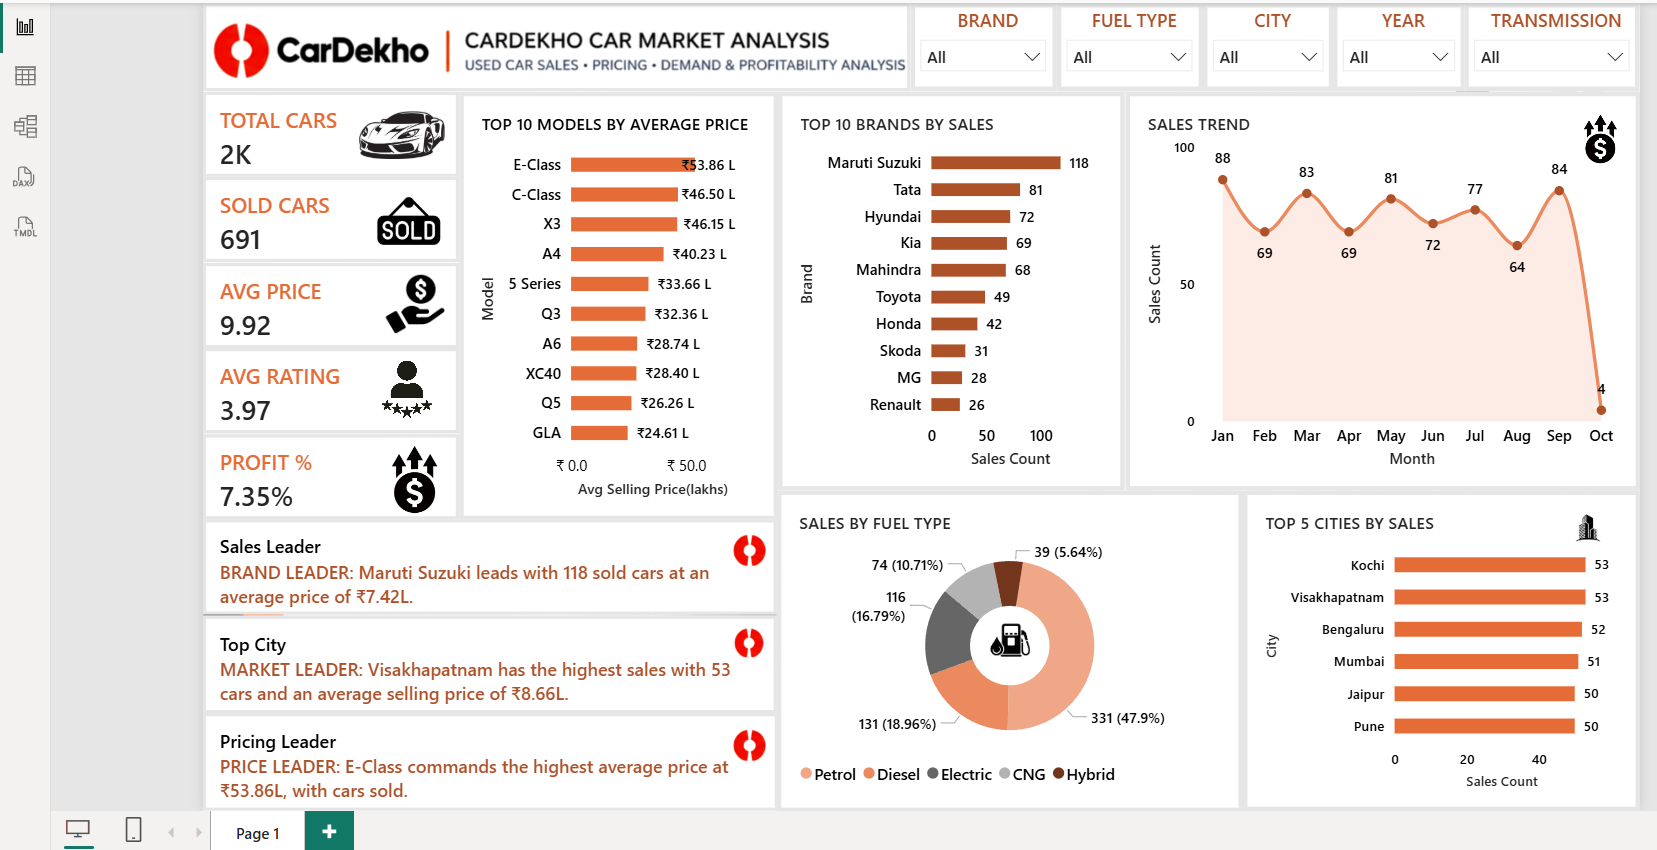

The page's visual inventory and layout, read from the dashboard file:
{"tool":"powerbi","page":{"name":"Page 1","canvas":[1280,720],"ordinal":0},"visuals":[{"type":"lineChart","title":"SALES TREND","fields":{"Category":["DateTable.Month"],"Y":["CarData.Sales Count"]},"box":[821.2,78.8,458.8,355],"z":0},{"type":"clusteredBarChart","title":"TOP 10 BRANDS BY SALES","fields":{"Y":["CarData.Sales Count"],"Category":["CarData.Brand"]},"box":[512.5,78.8,308.8,355],"z":1000},{"type":"donutChart","title":"SALES BY FUEL TYPE","fields":{"Y":["CarData.Sales Count"],"Category":["CarData.Fuel_Type"]},"box":[511.2,433.8,415,286.2],"z":2000},{"type":"clusteredBarChart","title":"TOP 5 CITIES BY SALES","fields":{"Category":["CarData.City"],"Y":["CarData.Sales Count"]},"box":[926.5,434.3,353.5,285.9],"z":3000},{"type":"clusteredBarChart","title":"TOP 10 MODELS BY AVERAGE PRICE","fields":{"Category":["CarData.Model"],"Y":["CarData.Average Selling Price"]},"box":[228.8,78.8,283.8,381.2],"z":4000},{"type":"cardVisual","fields":{"Data":["CarData.Total Cars"]},"box":[0,78.8,228.8,76.2],"z":5000},{"type":"cardVisual","fields":{"Data":["CarData.Sold Cars"]},"box":[0,155,228.8,76.2],"z":6000},{"type":"cardVisual","fields":{"Data":["CarData.Average Price"]},"box":[0,231.2,228.8,76.2],"z":7000},{"type":"cardVisual","fields":{"Data":["CarData.Average Rating"]},"box":[0,307.5,228.8,76.2],"z":8000},{"type":"cardVisual","fields":{"Data":["CarData.Profit Margin %"]},"box":[0,383.8,228.8,76.2],"z":9000},{"type":"slicer","title":"BRAND","fields":{"Values":["CarData.Brand"]},"box":[630,0,130,78.8],"z":10000},{"type":"slicer","title":"FUEL TYPE","fields":{"Values":["CarData.Fuel_Type"]},"box":[760,0,130,78.8],"z":11000},{"type":"slicer","title":"CITY","fields":{"Values":["CarData.City"]},"box":[890,0,116.2,78.8],"z":12000},{"type":"slicer","title":"YEAR","fields":{"Values":["DateTable.Year"]},"box":[1006.2,0,117.5,78.8],"z":13000},{"type":"slicer","title":"TRANSMISSION","fields":{"Values":["CarData.Transmission"]},"box":[1123.8,0,156.2,78.8],"z":14000},{"type":"shape","box":[0,0,630,78.8],"z":15000},{"type":"cardVisual","fields":{"Data":["CarData.Insight 1 - Sales Leader"]},"box":[0,460,511.2,85],"z":16000},{"type":"cardVisual","fields":{"Data":["CarData.Insight 2 - Top City"]},"box":[0,545,511.2,87.5],"z":17000},{"type":"cardVisual","fields":{"Data":["CarData.Insight 3 - Pricing Leader"]},"box":[0,632.5,512.5,87.5],"z":18000},{"type":"image","box":[0,1.2,630,77.5],"z":19000},{"type":"image","box":[138.8,96.2,76.2,43.8],"z":20000},{"type":"image","box":[147.5,166.2,67.5,55],"z":21000},{"type":"image","box":[162.5,240,52.5,55],"z":22000},{"type":"image","box":[147.5,318.8,67.5,51.2],"z":23000},{"type":"image","box":[162.5,390,51.2,65],"z":24000},{"type":"image","box":[1202.5,447.5,62.5,40],"z":25000},{"type":"image","box":[691.2,545,55,43.8],"z":26000},{"type":"image","box":[1223.8,96.2,41.2,47.5],"z":27000},{"type":"image","box":[471.2,467.5,30,35],"z":28000},{"type":"image","box":[466.2,552.5,38.8,30],"z":29000},{"type":"image","box":[471.2,641.2,30,35],"z":30000}]}

Visuals, with their boxes on the page's 1280x720 design canvas (x1, y1, x2, y2). These are canvas units, not pixel positions in the 1657x850 screenshot, which may show the page scaled, cropped or inside an application window:
"SALES TREND" lineChart: left=821, top=79, right=1280, bottom=434
"TOP 10 BRANDS BY SALES" clusteredBarChart: left=512, top=79, right=821, bottom=434
"SALES BY FUEL TYPE" donutChart: left=511, top=434, right=926, bottom=720
"TOP 5 CITIES BY SALES" clusteredBarChart: left=926, top=434, right=1280, bottom=720
"TOP 10 MODELS BY AVERAGE PRICE" clusteredBarChart: left=229, top=79, right=513, bottom=460
cardVisual - CarData.Total Cars: left=0, top=79, right=229, bottom=155
cardVisual - CarData.Sold Cars: left=0, top=155, right=229, bottom=231
cardVisual - CarData.Average Price: left=0, top=231, right=229, bottom=307
cardVisual - CarData.Average Rating: left=0, top=308, right=229, bottom=384
cardVisual - CarData.Profit Margin %: left=0, top=384, right=229, bottom=460
"BRAND" slicer: left=630, top=0, right=760, bottom=79
"FUEL TYPE" slicer: left=760, top=0, right=890, bottom=79
"CITY" slicer: left=890, top=0, right=1006, bottom=79
"YEAR" slicer: left=1006, top=0, right=1124, bottom=79
"TRANSMISSION" slicer: left=1124, top=0, right=1280, bottom=79
shape: left=0, top=0, right=630, bottom=79
cardVisual - CarData.Insight 1 - Sales Leader: left=0, top=460, right=511, bottom=545
cardVisual - CarData.Insight 2 - Top City: left=0, top=545, right=511, bottom=632
cardVisual - CarData.Insight 3 - Pricing Leader: left=0, top=632, right=512, bottom=720
image: left=0, top=1, right=630, bottom=79
image: left=139, top=96, right=215, bottom=140
image: left=148, top=166, right=215, bottom=221
image: left=162, top=240, right=215, bottom=295
image: left=148, top=319, right=215, bottom=370
image: left=162, top=390, right=214, bottom=455
image: left=1202, top=448, right=1265, bottom=488
image: left=691, top=545, right=746, bottom=589
image: left=1224, top=96, right=1265, bottom=144
image: left=471, top=468, right=501, bottom=502
image: left=466, top=552, right=505, bottom=582
image: left=471, top=641, right=501, bottom=676
